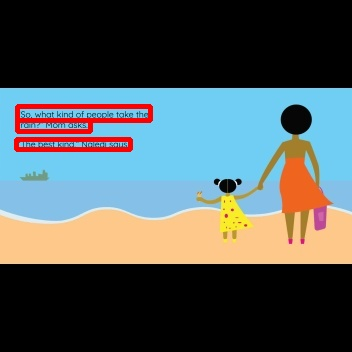latin: (17, 106, 150, 120), (16, 139, 130, 149), (17, 120, 90, 131)
